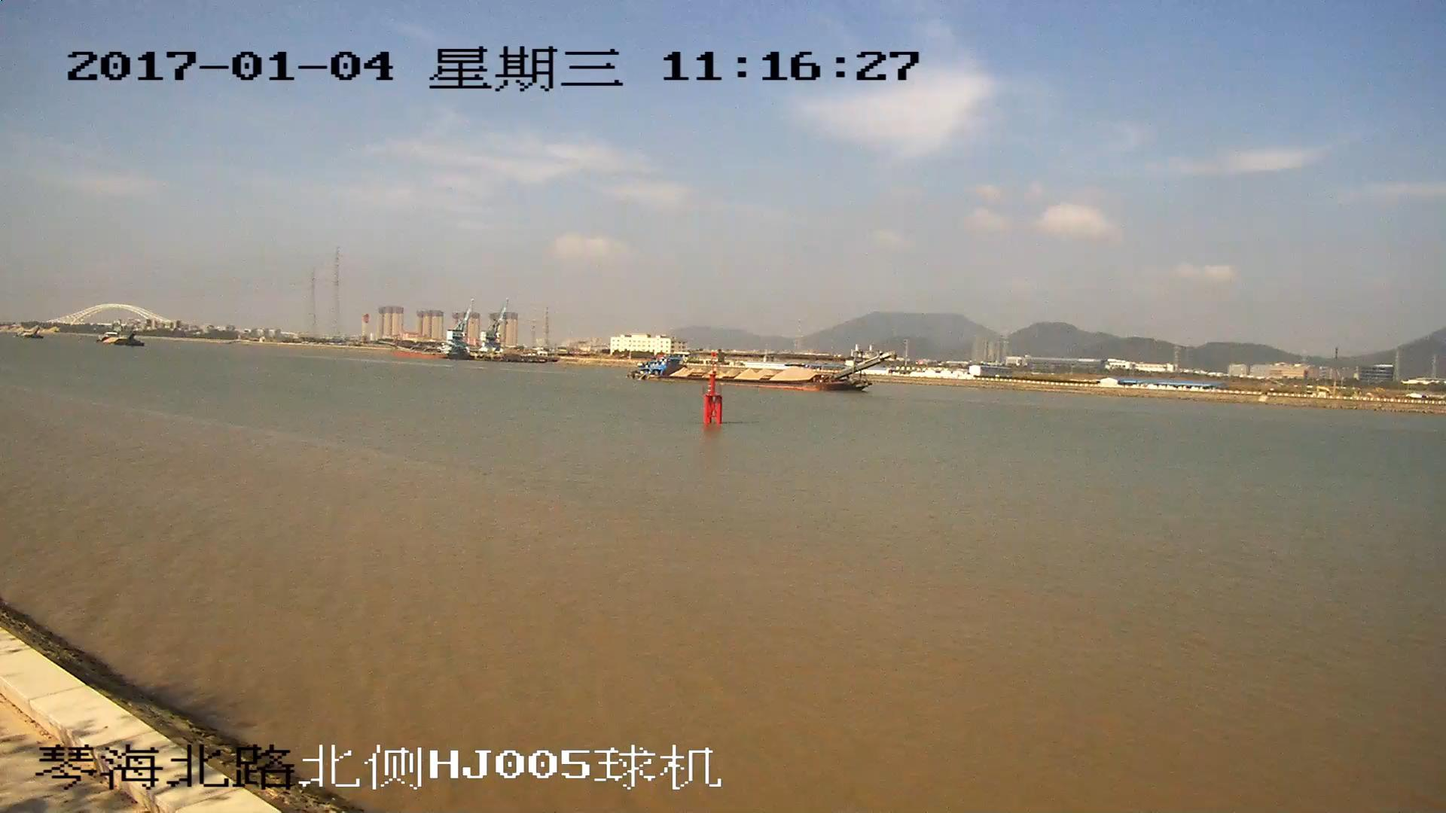ore carrier: (632, 354, 889, 394)
